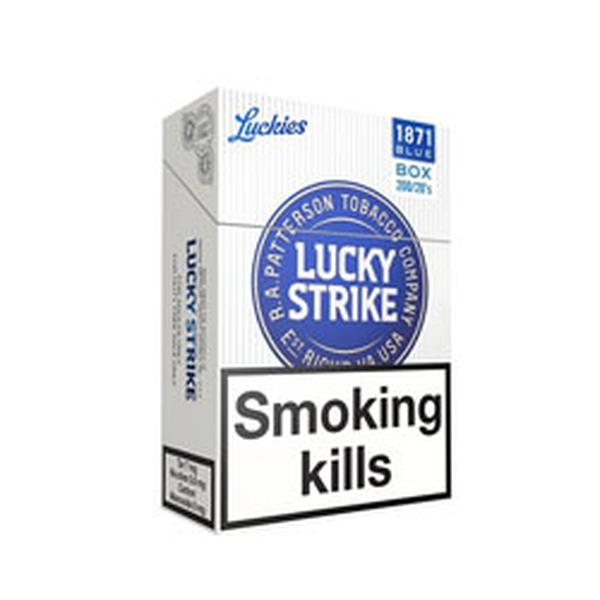lucky_strike_blue: (218, 119, 448, 497)
